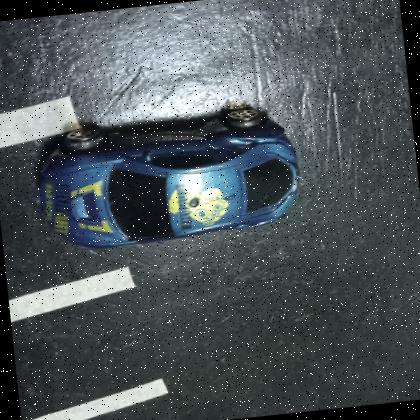Car: (36, 105, 299, 248)
